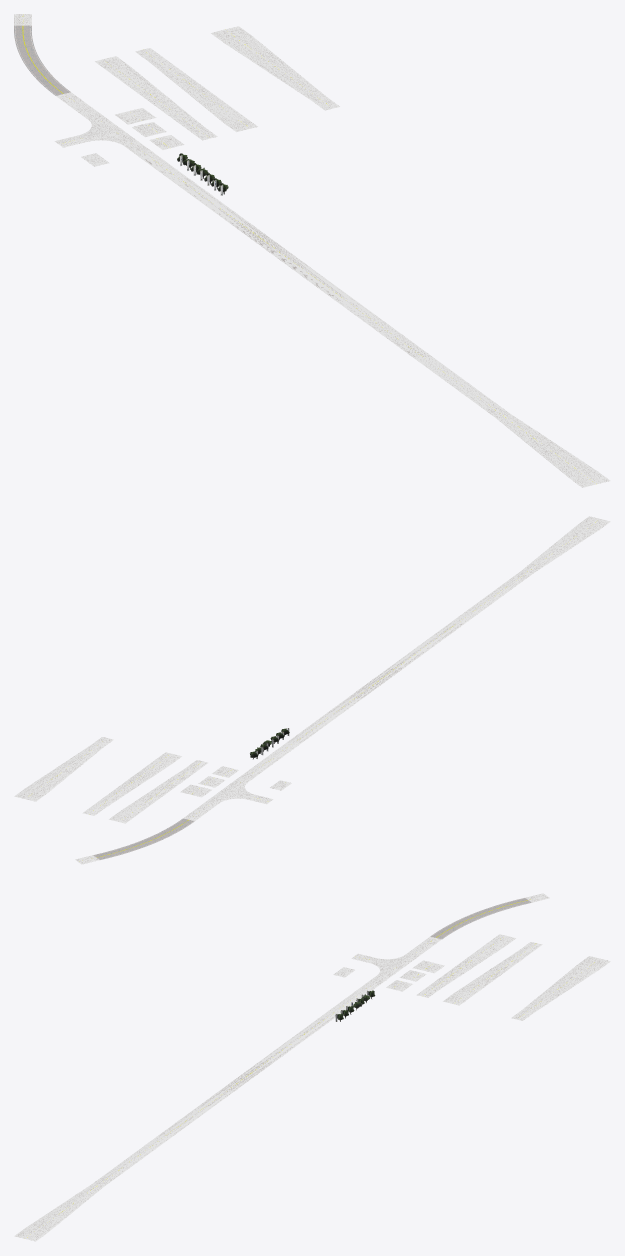
File: countryroad.obj
The picture shows the model from 3 angles, top to bottom: view 1: azimuth 30°, elevation 25°; view 2: azimuth 150°, elevation 25°; view 3: azimuth 330°, elevation 25°; orthographic projection. The views are drawn at different scales.
Visible parts, largest first — view 1: Mesh8 Group8 Model, Mesh10 Group10 Model, Mesh11 Group11 Model, Mesh7 Group7 Model, Mesh1 Group1 Model, Mesh9 Group9 Model, Mesh3 Group3 Model; view 2: Mesh8 Group8 Model, Mesh11 Group11 Model, Mesh10 Group10 Model, Mesh7 Group7 Model, Mesh1 Group1 Model, Mesh9 Group9 Model, Mesh3 Group3 Model; view 3: Mesh8 Group8 Model, Mesh10 Group10 Model, Mesh11 Group11 Model, Mesh7 Group7 Model, Mesh1 Group1 Model, Mesh9 Group9 Model, Mesh3 Group3 Model.
Boxes of the visible parts, x1,y1,x2,y2 form: Mesh8 Group8 Model: [138, 152, 495, 407]; Mesh10 Group10 Model: [211, 26, 339, 110]; Mesh11 Group11 Model: [481, 403, 610, 487]; Mesh7 Group7 Model: [95, 56, 217, 140]; Mesh1 Group1 Model: [135, 48, 257, 132]; Mesh9 Group9 Model: [14, 14, 84, 105]; Mesh3 Group3 Model: [54, 102, 153, 156]; Mesh8 Group8 Model: [247, 578, 522, 774]; Mesh11 Group11 Model: [511, 516, 610, 581]; Mesh10 Group10 Model: [14, 737, 113, 801]; Mesh7 Group7 Model: [109, 760, 208, 823]; Mesh1 Group1 Model: [82, 752, 181, 815]; Mesh9 Group9 Model: [75, 810, 204, 864]; Mesh3 Group3 Model: [194, 772, 273, 813]; Mesh8 Group8 Model: [102, 983, 377, 1179]; Mesh10 Group10 Model: [511, 956, 610, 1020]; Mesh11 Group11 Model: [14, 1176, 113, 1241]; Mesh7 Group7 Model: [416, 934, 515, 997]; Mesh1 Group1 Model: [443, 942, 542, 1005]; Mesh9 Group9 Model: [420, 893, 549, 947]; Mesh3 Group3 Model: [351, 944, 430, 985].
Size of the model in its own units: 132 by 5.44 by 558.
